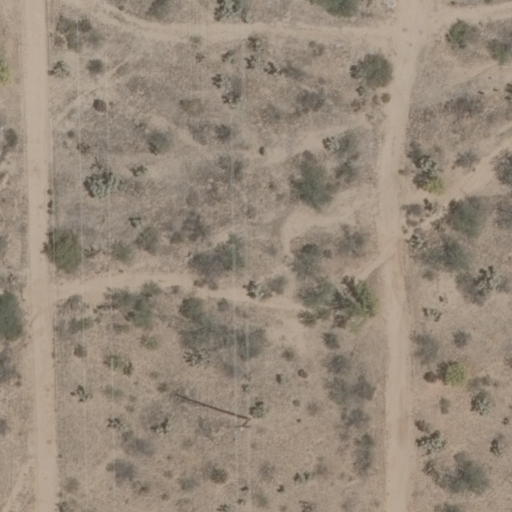DT: (231, 405, 258, 433)
